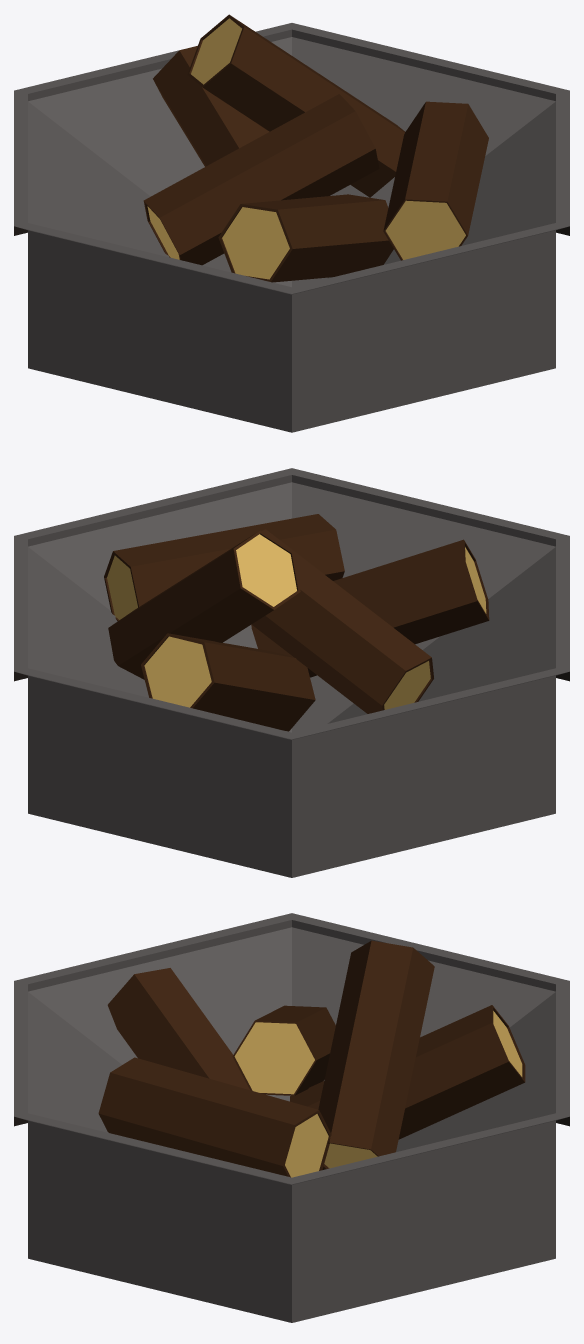
File: Low Boly Firepit.fbx
The picture shows the model from 3 angles, top to bottom: view 1: azimuth 30°, elevation 25°; view 2: azimuth 150°, elevation 25°; view 3: azimuth 270°, elevation 25°; orthographic projection.
Parts seen in each view (by area): view 1: Firepit; view 2: Firepit; view 3: Firepit.
Part boxes in pixels (x1,y1,x2,y2): Firepit: [14, 14, 569, 432]; Firepit: [14, 468, 569, 877]; Firepit: [14, 913, 569, 1322].
Size of the model in its own units: 400 by 172 by 346.
